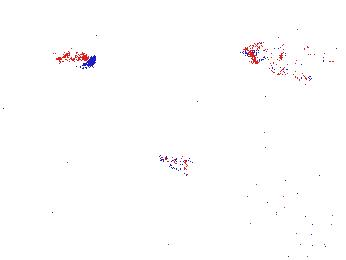X-ray fish: (98, 186, 154, 235)
glassfish: (155, 148, 263, 190)
red belly glassfish: (35, 37, 97, 70)
redtail glassfish: (267, 54, 329, 77), (243, 43, 288, 62)
